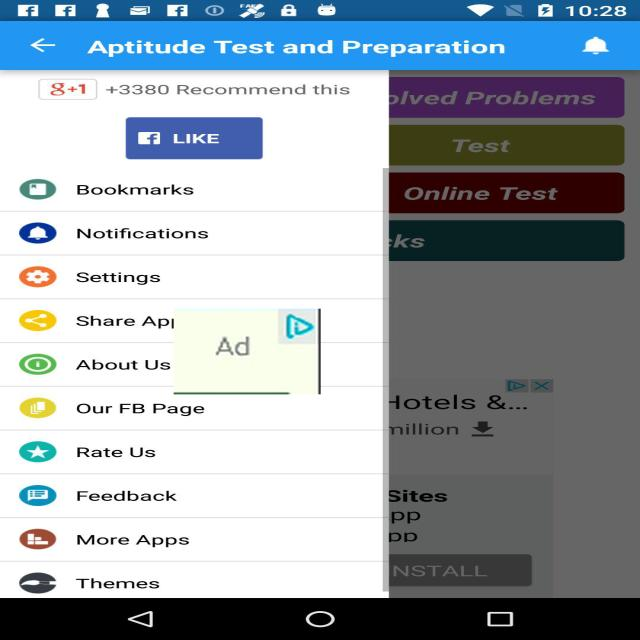sneaking: (174, 309, 320, 394)
